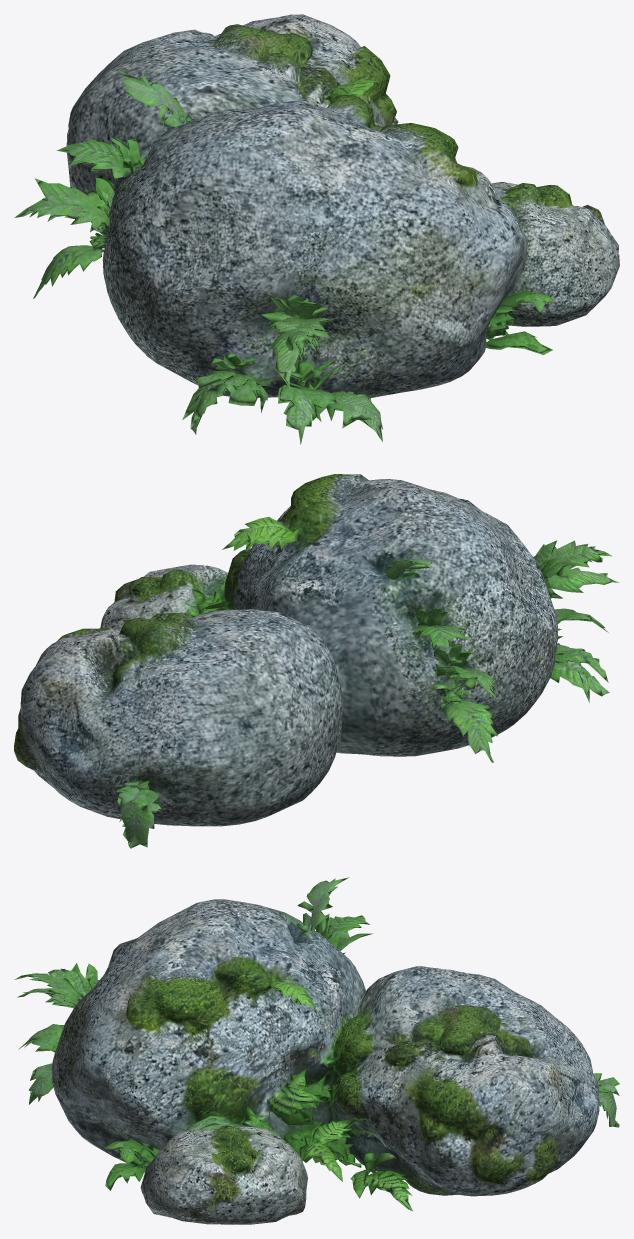
Rendered from rock_moss.glb.
3 views of the same model, one above another, from view 1: azimuth 30°, elevation 25°; view 2: azimuth 150°, elevation 25°; view 3: azimuth 270°, elevation 25° (orthographic). The views are drawn at different scales.
Parts seen in each view (by area): view 1: tripo_node_aa57f9f7-f7ff-4695-9c59-fa268cccca38; view 2: tripo_node_aa57f9f7-f7ff-4695-9c59-fa268cccca38; view 3: tripo_node_aa57f9f7-f7ff-4695-9c59-fa268cccca38.
Boxes of the visible parts, x1,y1,x2,y2 form: tripo_node_aa57f9f7-f7ff-4695-9c59-fa268cccca38: (14,14,619,444); tripo_node_aa57f9f7-f7ff-4695-9c59-fa268cccca38: (14,474,618,848); tripo_node_aa57f9f7-f7ff-4695-9c59-fa268cccca38: (14,877,619,1224).
Size of the model in its own units: 0.7894 by 0.3756 by 1.
Materials: 1 (1 with a texture image).
